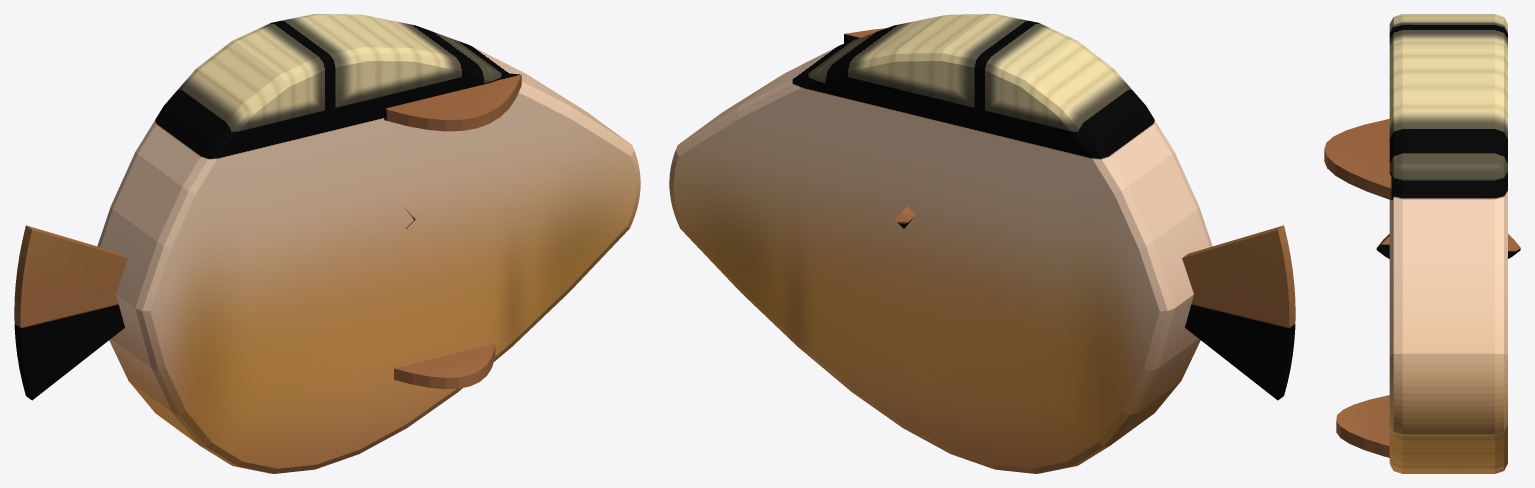
File: fish-butterflyfish-school.glb
3 views of the same model, side by side, from view 1: azimuth 30°, elevation 25°; view 2: azimuth 150°, elevation 25°; view 3: azimuth 270°, elevation 25° (orthographic). The views are drawn at different scales.
Bounding box in the file's own units: 1.55 × 1.02 × 0.426.
1 material, 1 textured.
